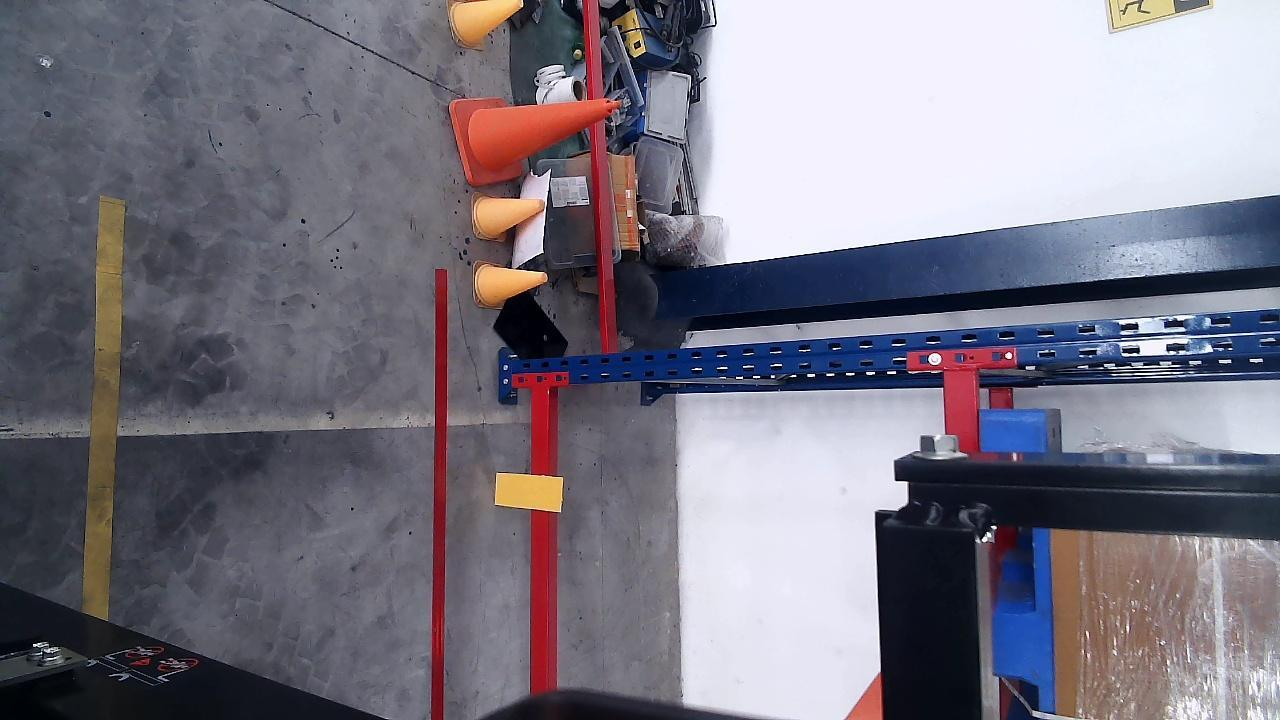h_rack: (531, 384, 554, 692)
orange_strip: (492, 475, 564, 511)
red_line: (431, 267, 447, 720)
yellow_line: (84, 198, 126, 624)
